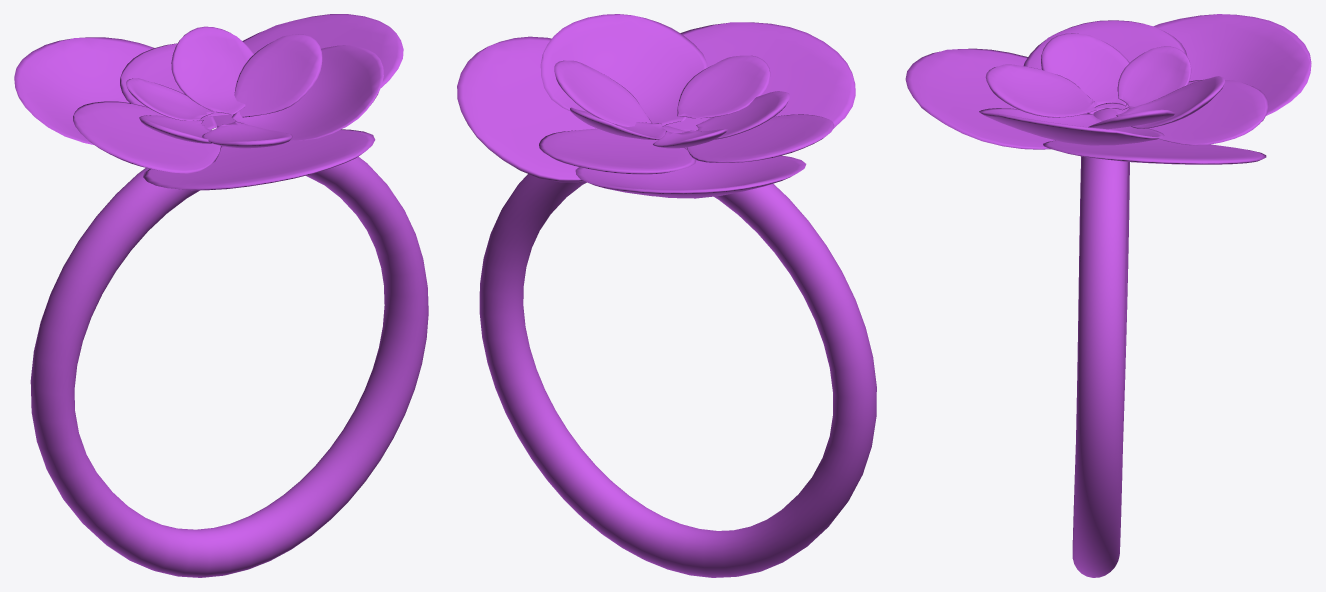
Rendered from orhid.glb.
The picture shows the model from 3 angles, left to right: view 1: azimuth 30°, elevation 25°; view 2: azimuth 150°, elevation 25°; view 3: azimuth 270°, elevation 25°; orthographic projection.
Parts seen in each view (by area): view 1: pCube6.004; view 2: pCube6.004; view 3: pCube6.004.
Boxes of the visible parts, bbox=[...] form: pCube6.004: bbox=[14, 14, 428, 577]; pCube6.004: bbox=[457, 14, 876, 577]; pCube6.004: bbox=[905, 14, 1311, 577].
Bounding box in the file's own units: 27.48 × 33.5 × 24.64.
